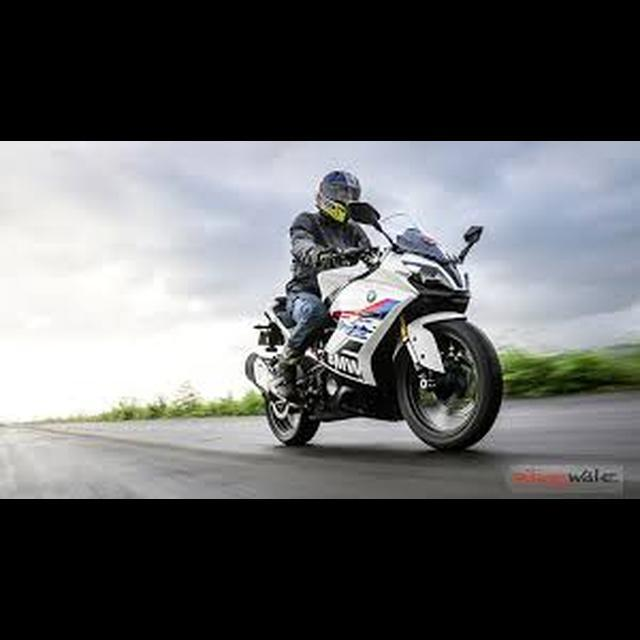motorcycle: (241, 195, 508, 458)
